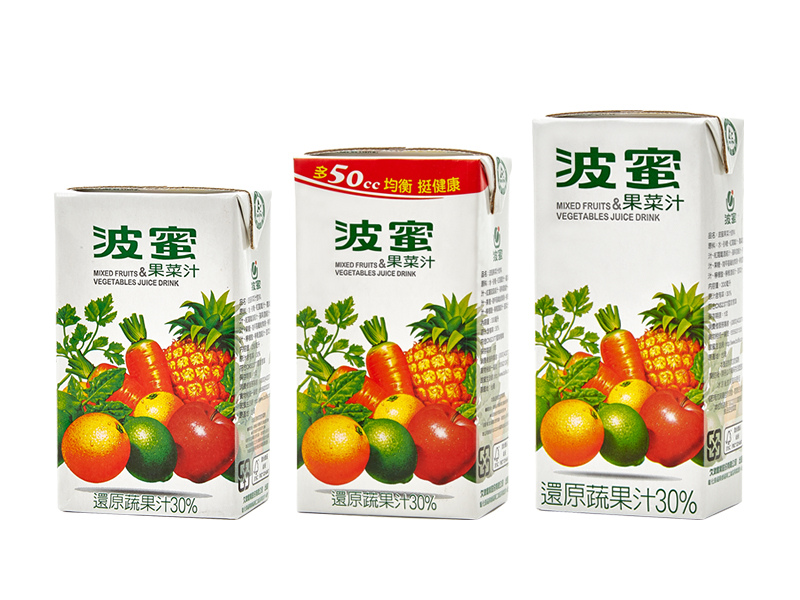vegetables juice: (521, 88, 750, 540), (283, 140, 510, 529), (51, 172, 277, 533)
